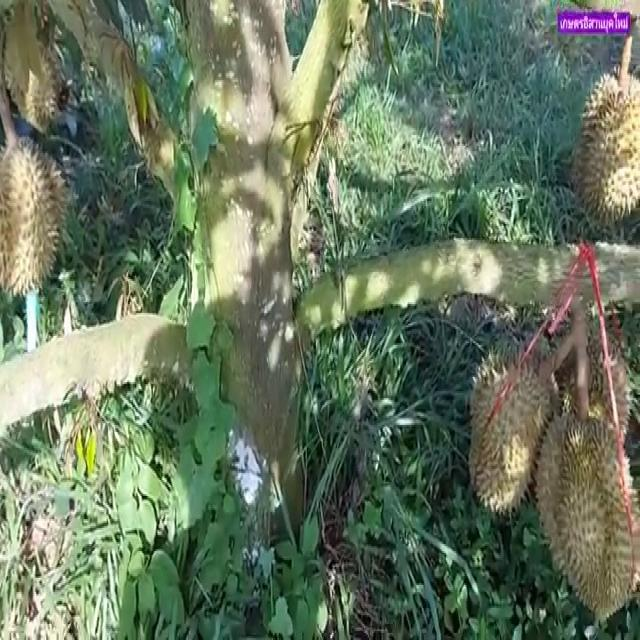durian: (532, 400, 638, 627), (464, 350, 565, 520), (1, 135, 72, 307), (574, 66, 639, 224), (1, 10, 68, 136)
